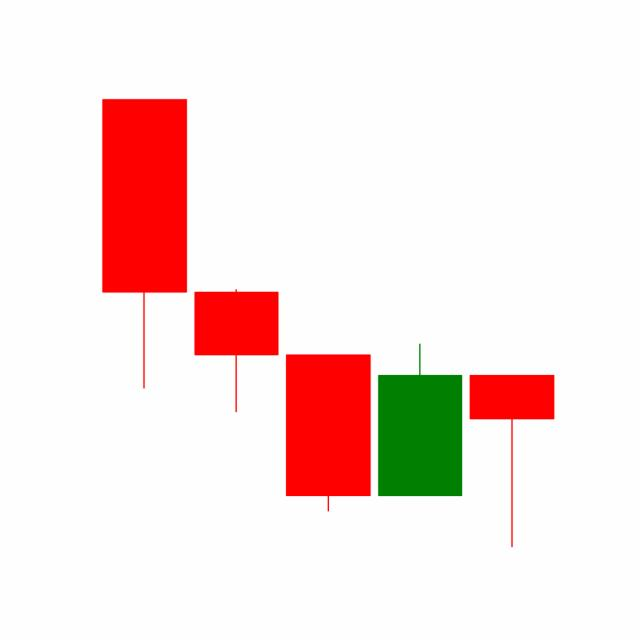Hammer: (464, 372, 558, 549)
